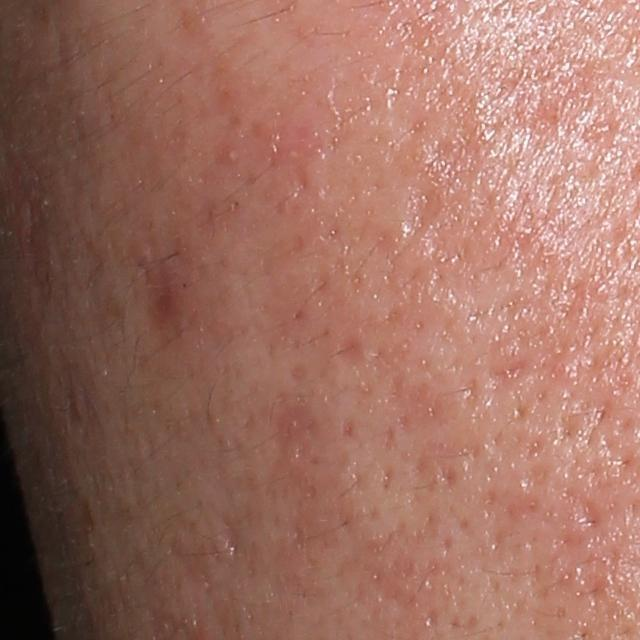atrophic_scar: (403, 175, 450, 256), (570, 487, 607, 532), (489, 358, 534, 388), (214, 521, 244, 557), (339, 331, 369, 366)
